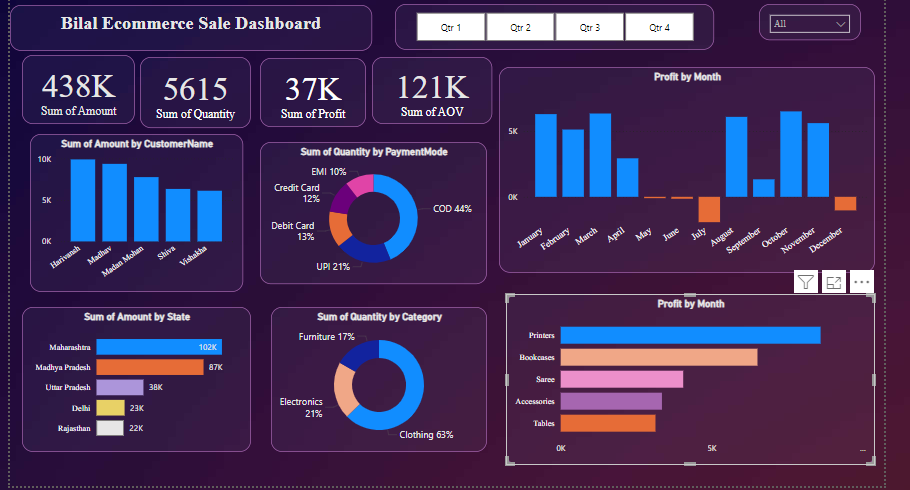

Layout of this report page (visuals, bound fields, positions):
{"tool":"powerbi","page":{"name":"Page 1","canvas":[1280,720],"ordinal":0},"visuals":[{"type":"textbox","box":[0,16.1,529.8,67.3],"z":0},{"type":"columnChart","title":" Profit by Month","fields":{"Y":["Details.Profit"],"Category":["Orders (1).Order Date.Variation.Date Hierarchy.Month"]},"box":[715.6,106.8,550.2,301.5],"z":1000},{"type":"clusteredBarChart","title":" Profit by Month","fields":{"Category":["Details.Sub-Category"],"Y":["Details.Profit"]},"box":[725.9,439,540,250.2],"z":2000},{"type":"donutChart","fields":{"Y":["Details.Quantity"],"Category":["Details.Category"]},"box":[382,458,316.1,212.2],"z":3000},{"type":"donutChart","fields":{"Y":["Details.Quantity"],"Category":["Details.PaymentMode"]},"box":[365.9,216.6,332.2,207.8],"z":4000},{"type":"card","fields":{"Values":["Details.Amount"]},"box":[17.6,89.3,165.4,101],"z":5000},{"type":"card","fields":{"Values":["Details.Quantity"]},"box":[190.2,92.2,162.4,103.9],"z":6000},{"type":"card","fields":{"Values":["Details.Profit"]},"box":[365.9,93.7,155.1,101],"z":7000},{"type":"card","fields":{"Values":["Details.AOV"]},"box":[529.8,92.2,175.6,98],"z":8000},{"type":"barChart","fields":{"Category":["Orders (1).State"],"Y":["Details.Amount"]},"box":[17.6,458,335.1,212.2],"z":9000},{"type":"columnChart","fields":{"Category":["Orders (1).CustomerName"],"Y":["Details.Amount"]},"box":[29.3,204.9,311.7,231.2],"z":10000},{"type":"slicer","fields":{"Values":["Orders (1).Order Date.Variation.Date Hierarchy.Quarter"]},"box":[563.4,14.6,466.8,67.3],"z":11000},{"type":"slicer","fields":{"Values":["Orders (1).State"]},"box":[1095.7,14.3,148.6,52.9],"z":12000}]}

Visuals, with their boxes on the page's 1280x720 design canvas (x1, y1, x2, y2). These are canvas units, not pixel positions in the 910x490 screenshot, which may show the page scaled, cropped or inside an application window:
textbox: region(0, 16, 530, 83)
" Profit by Month" columnChart: region(716, 107, 1266, 408)
" Profit by Month" clusteredBarChart: region(726, 439, 1266, 689)
donutChart - Details.Quantity x Details.Category: region(382, 458, 698, 670)
donutChart - Details.Quantity x Details.PaymentMode: region(366, 217, 698, 424)
card - Details.Amount: region(18, 89, 183, 190)
card - Details.Quantity: region(190, 92, 353, 196)
card - Details.Profit: region(366, 94, 521, 195)
card - Details.AOV: region(530, 92, 705, 190)
barChart - Orders (1).State x Details.Amount: region(18, 458, 353, 670)
columnChart - Orders (1).CustomerName x Details.Amount: region(29, 205, 341, 436)
slicer - Orders (1).Order Date.Variation.Date Hierarchy.Quarter: region(563, 15, 1030, 82)
slicer - Orders (1).State: region(1096, 14, 1244, 67)
